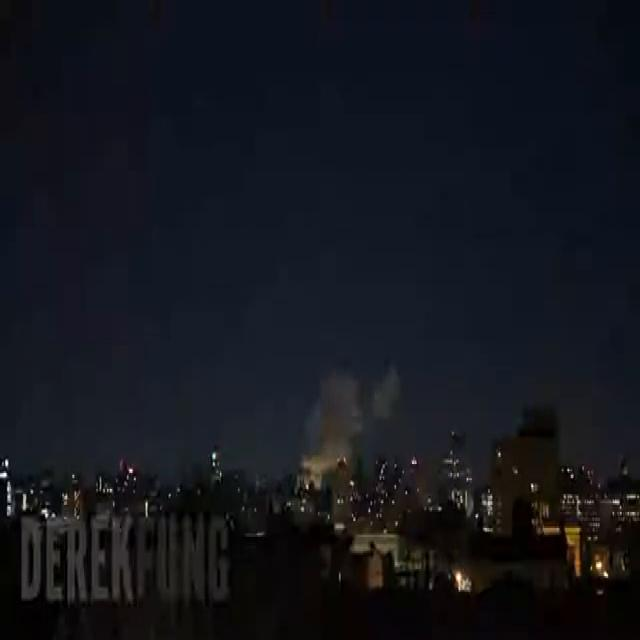smoke: (300, 366, 399, 485)
